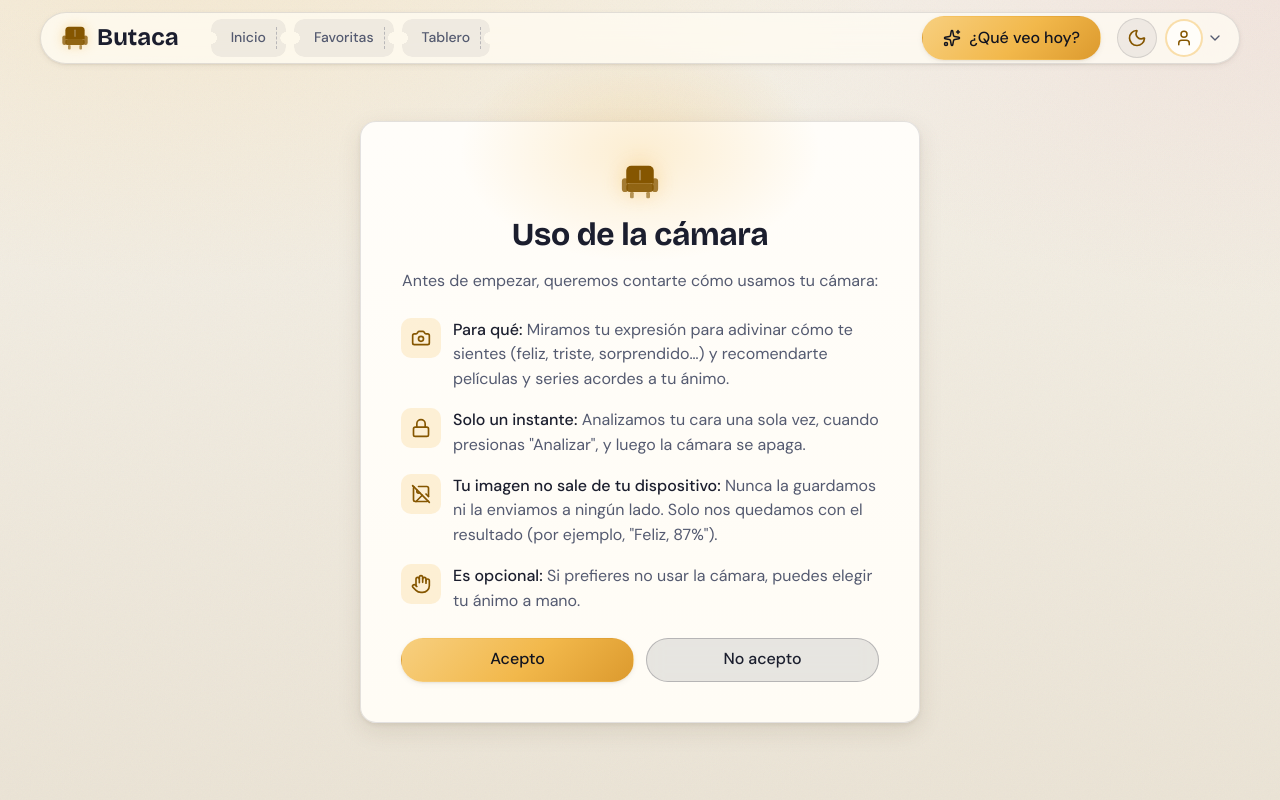
consentimiento › "No acepto" lleva a /detectar en modo manual sin encender la cámara
Click the button with test id "boton-no-acepto" at [762, 660], box [646,638,879,682]
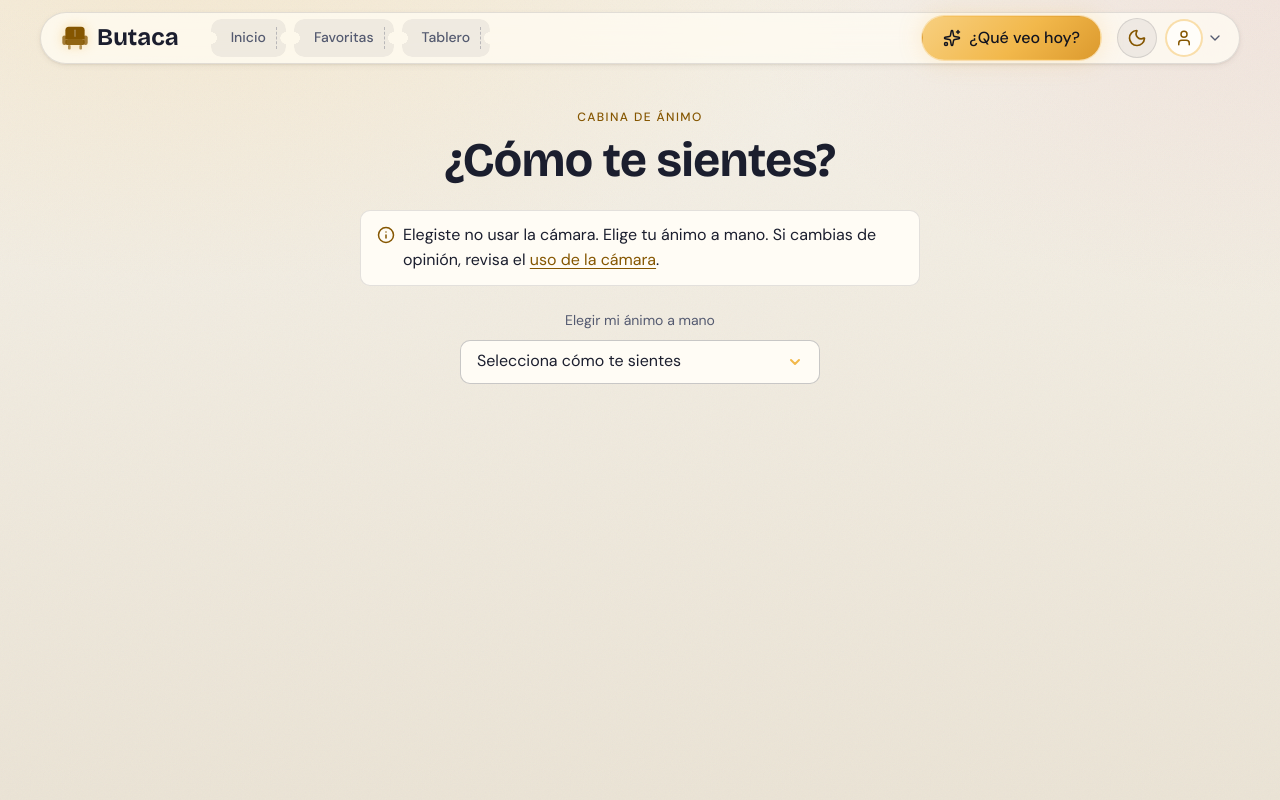
Result: the heading reads "¿Cómo te sientes?" at [445,131,835,189]
Result: the text "Elegiste no usar la cámara" is shown at [403,224,876,270]
